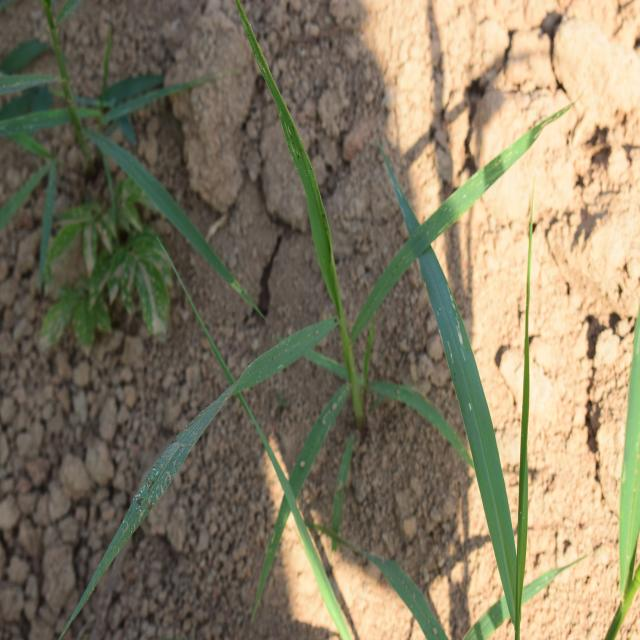green_foxtail: (163, 67, 450, 468), (416, 203, 584, 593)
